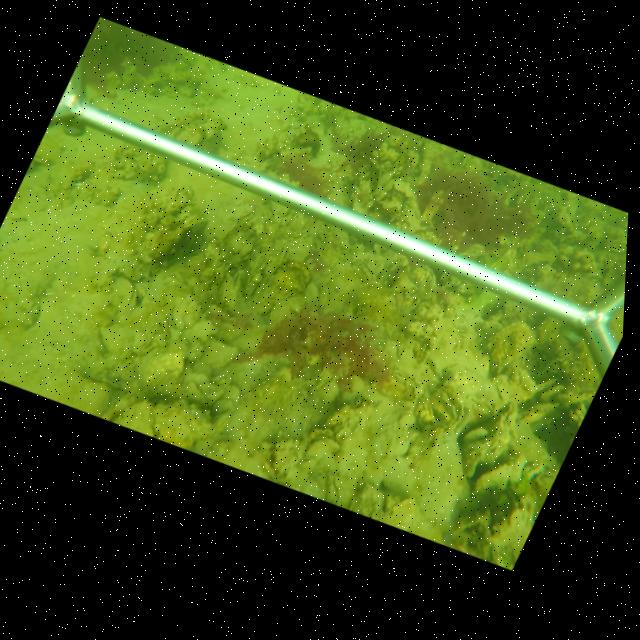Oyster-Closed: (252, 259, 314, 316), (489, 403, 517, 457), (269, 292, 305, 328), (301, 434, 343, 463), (242, 253, 267, 300), (325, 474, 345, 506), (483, 449, 495, 466)
Oyster-Indeterminate: (152, 402, 213, 448), (471, 452, 528, 496), (110, 272, 134, 314)
Oyster-Open: (432, 385, 466, 434)
